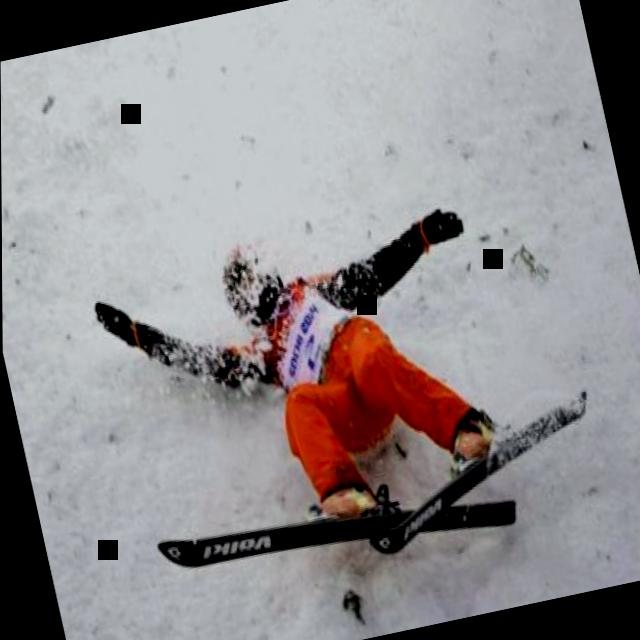Fall-Detected: (62, 142, 555, 603)
